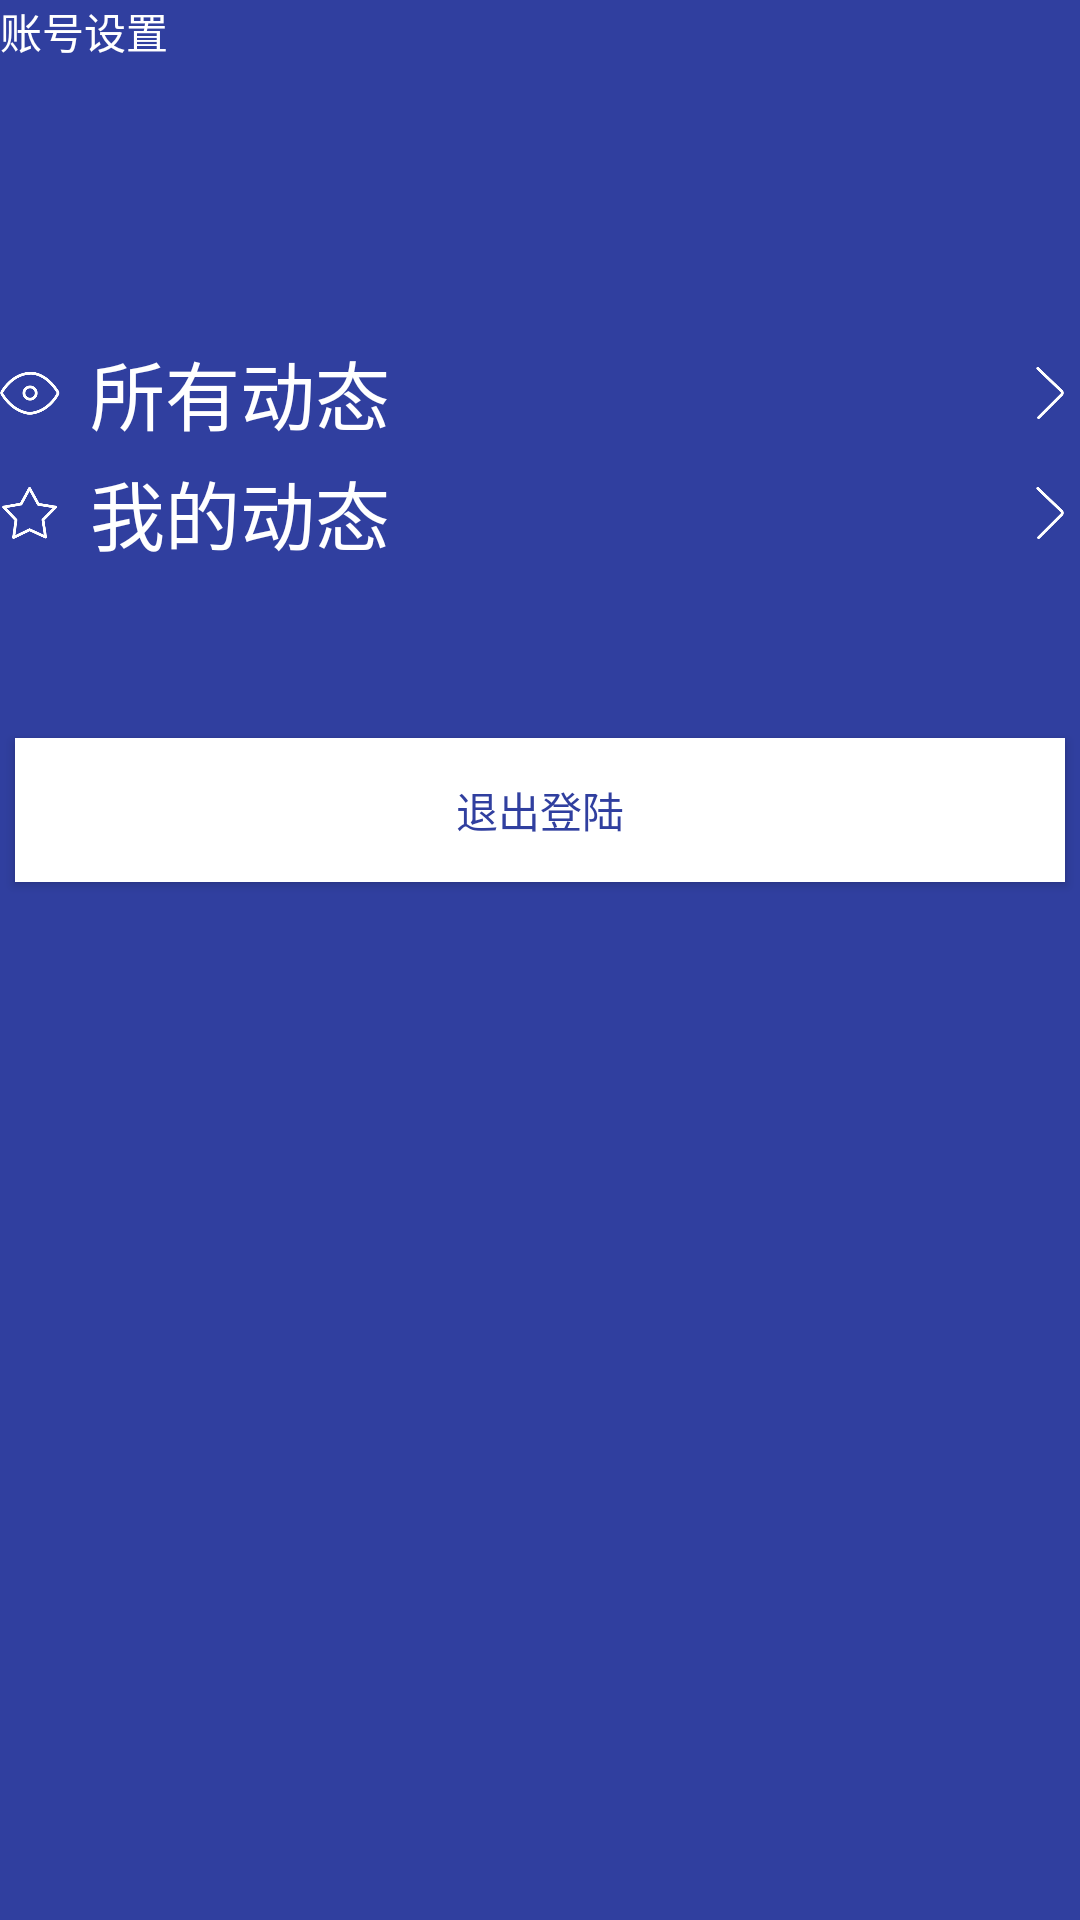

Locate icon controls on the screen. Image size 1080px×1920px, boxes as (x1, y1, x2, y2).
arrow right: (1036, 367, 1064, 419), (1036, 487, 1064, 539)
browse: (0, 372, 60, 415)
favorite: (2, 487, 57, 539)
